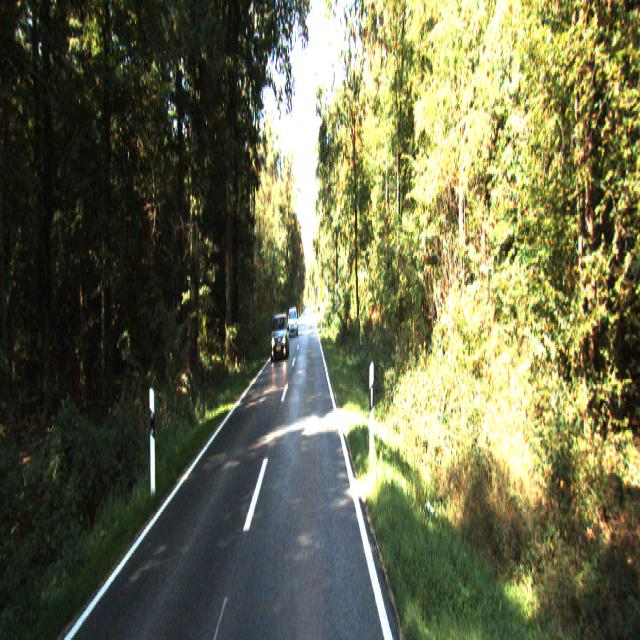Car: (270, 312, 290, 362)
